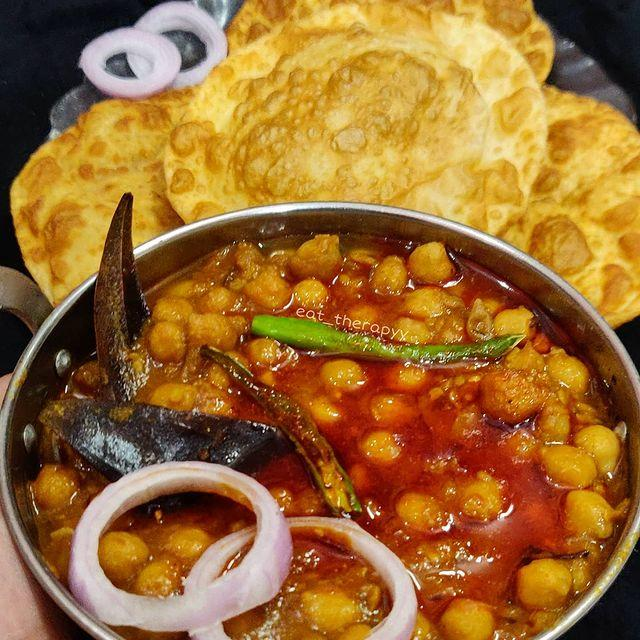Chole: (215, 251, 596, 488)
